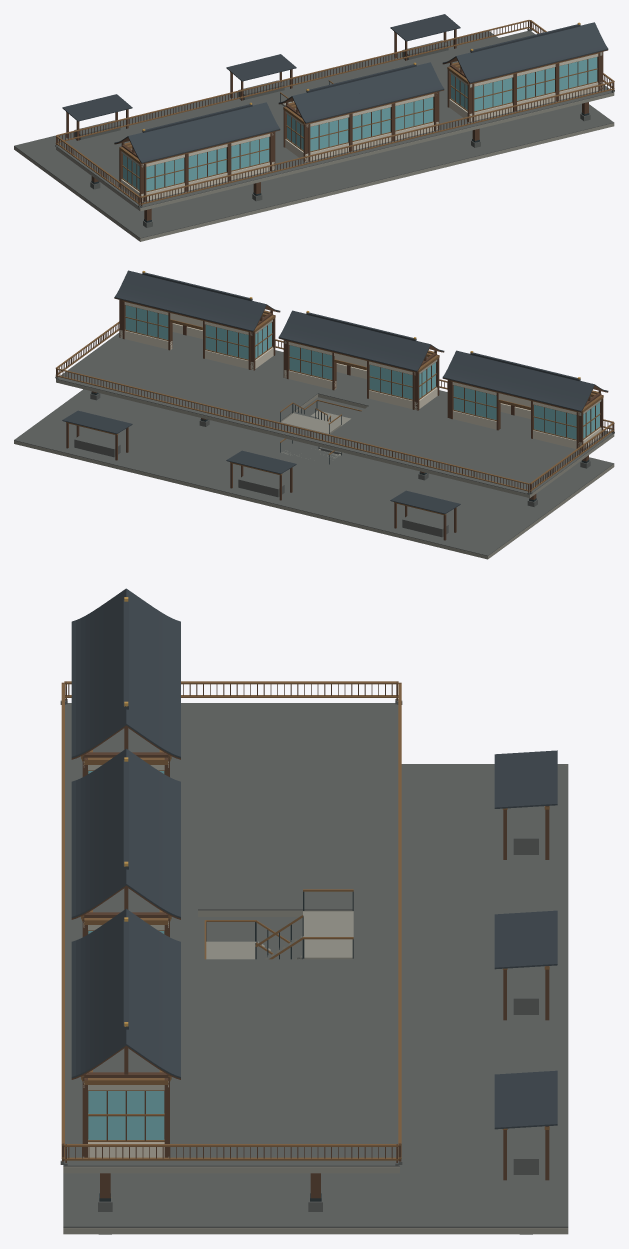
Rendered from visual-far.glb.
3 views of the same model, one above another, from view 1: azimuth 30°, elevation 25°; view 2: azimuth 150°, elevation 25°; view 3: azimuth 270°, elevation 25° (orthographic). The views are drawn at different scales.
Parts seen in each view (by area): view 1: 石铺面与混凝土承板 (×2), 分格窗洞与木石墙 (×6), 连续飞檐与梁椽 (×3), 廊边木栏与实际竖梃 (×3), 独立作者街摊台与木棚 (×3); view 2: 石铺面与混凝土承板 (×2), 连续飞檐与梁椽 (×3), 中轴实开门墙 (×3), 独立作者街摊台与木棚 (×3), 廊边木栏与实际竖梃 (×3), 分格窗洞与木石墙 (×3), 双跑连续梁与实体踏步; view 3: 石铺面与混凝土承板 (×2), 连续飞檐与梁椽 (×3), 独立作者街摊台与木棚 (×3), 廊边木栏与实际竖梃 (×4), 分格窗洞与木石墙, 双跑连续梁与实体踏步.
Boxes of the visible parts, box(x1,y1,x2,y2) form: 石铺面与混凝土承板 (×2): box(14, 31, 614, 241); 分格窗洞与木石墙 (×6): box(119, 52, 600, 202); 连续飞檐与梁椽 (×3): box(114, 22, 608, 163); 廊边木栏与实际竖梃 (×3): box(55, 20, 614, 207); 独立作者街摊台与木棚 (×3): box(62, 14, 460, 140); 石铺面与混凝土承板 (×2): box(14, 332, 614, 559); 连续飞檐与梁椽 (×3): box(114, 270, 608, 412); 中轴实开门墙 (×3): box(122, 301, 578, 449); 独立作者街摊台与木棚 (×3): box(62, 410, 460, 540); 廊边木栏与实际竖梃 (×3): box(55, 321, 614, 494); 分格窗洞与木石墙 (×3): box(250, 314, 603, 450); 双跑连续梁与实体踏步: box(280, 399, 361, 464); 石铺面与混凝土承板 (×2): box(63, 703, 568, 1234); 连续飞檐与梁椽 (×3): box(71, 588, 180, 1079); 独立作者街摊台与木棚 (×3): box(494, 750, 557, 1180); 廊边木栏与实际竖梃 (×4): box(60, 681, 402, 1166); 分格窗洞与木石墙: box(84, 1078, 168, 1157); 双跑连续梁与实体踏步: box(204, 889, 353, 959).
Bounding box in the file's own units: 52.24 × 10.9 × 24.12.
Materials: 12 (12 with a texture image).
